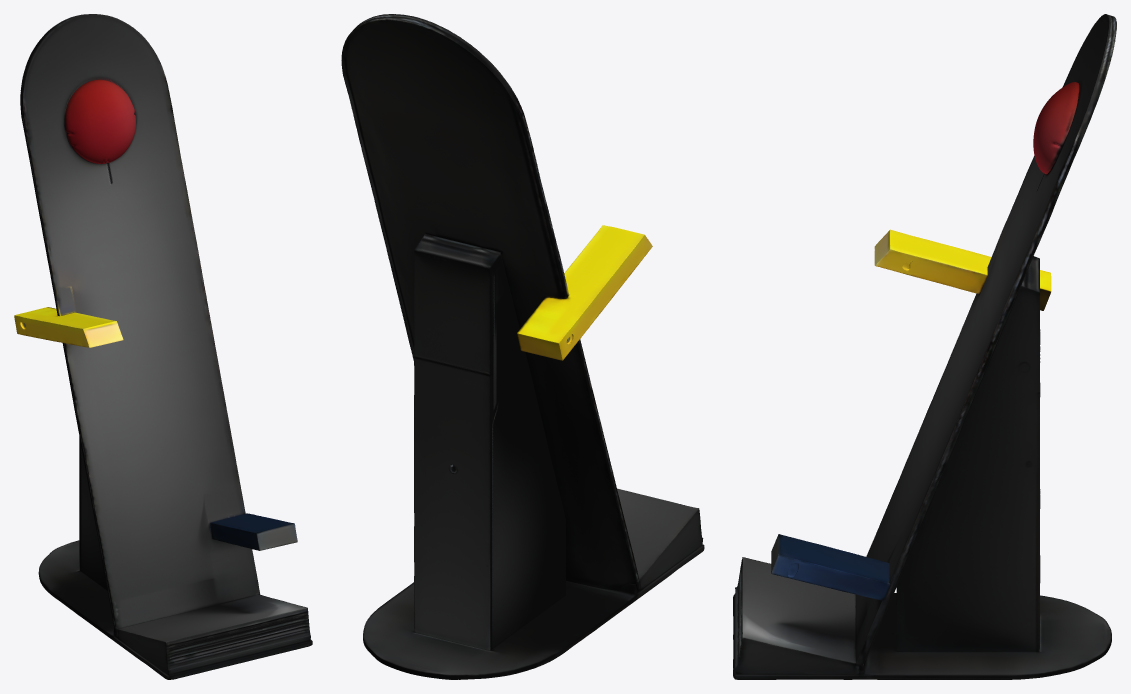
3 views of the same model, side by side, from view 1: azimuth 30°, elevation 25°; view 2: azimuth 150°, elevation 25°; view 3: azimuth 270°, elevation 25° (orthographic). The views are drawn at different scales.
Parts seen in each view (by area): view 1: root.0, root.3, root.2, root.6, root.4, root.5, root.1; view 2: root.0, root.1, root.2, root.4, root.3; view 3: root.1, root.0, root.3, root.2, root.4, root.5, root.6.
Boxes of the visible parts, x1=… form: root.0: x1=20, y1=14, x2=260, y2=636; root.3: x1=113, y1=594, x2=310, y2=675; root.2: x1=38, y1=540, x2=312, y2=679; root.6: x1=64, y1=79, x2=135, y2=163; root.4: x1=14, y1=307, x2=123, y2=347; root.5: x1=210, y1=513, x2=297, y2=550; root.1: x1=79, y1=436, x2=107, y2=590; root.0: x1=341, y1=14, x2=640, y2=590; root.1: x1=414, y1=234, x2=565, y2=650; root.2: x1=363, y1=544, x2=704, y2=679; root.4: x1=517, y1=225, x2=652, y2=360; root.3: x1=617, y1=488, x2=703, y2=594; root.1: x1=896, y1=256, x2=1040, y2=651; root.0: x1=853, y1=14, x2=1116, y2=674; root.3: x1=735, y1=557, x2=863, y2=674; root.2: x1=733, y1=593, x2=1111, y2=679; root.4: x1=874, y1=229, x2=1051, y2=310; root.5: x1=771, y1=534, x2=890, y2=600; root.6: x1=1033, y1=82, x2=1079, y2=174.
Bounding box in the file's own units: 0.637 × 1.96 × 1.11.
7 materials, 7 textured.
